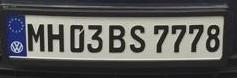0: (68, 23, 84, 52)
3: (86, 23, 103, 52)
7: (170, 22, 186, 54), (187, 23, 204, 52), (152, 24, 169, 52)
8: (205, 23, 219, 51)
B: (107, 23, 126, 53)
H: (45, 22, 64, 51)
M: (25, 22, 45, 51)
S: (128, 23, 146, 52)
